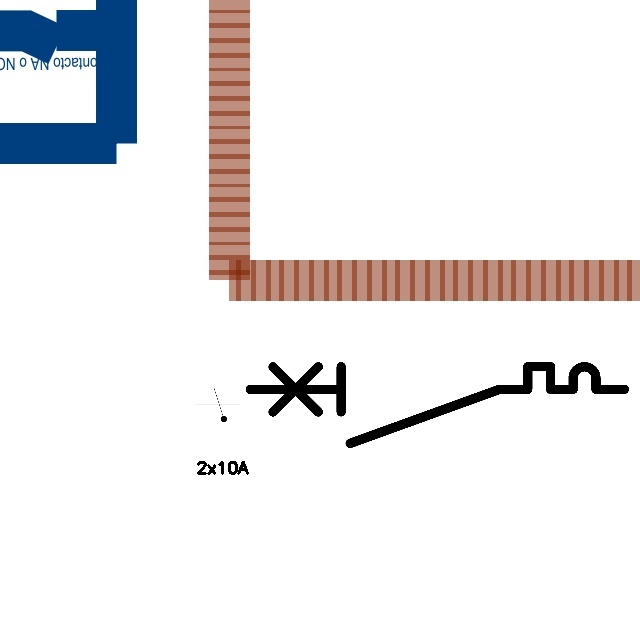interruptor_termomagnetico: (240, 357, 633, 453)
